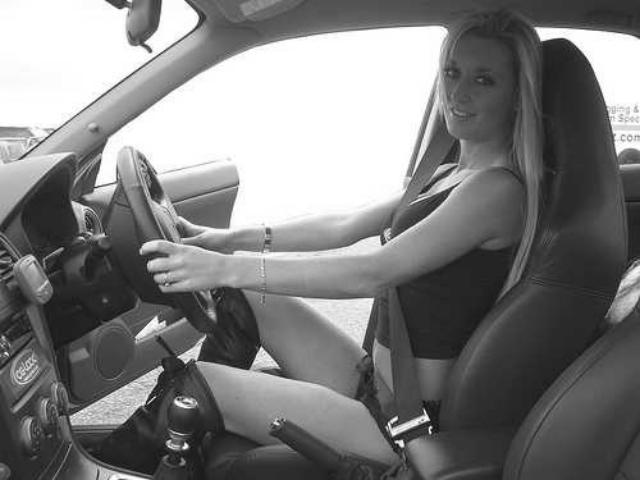SafeDriving: (468, 68, 498, 91), (439, 61, 462, 84)
Seatbelt: (372, 118, 458, 448)
